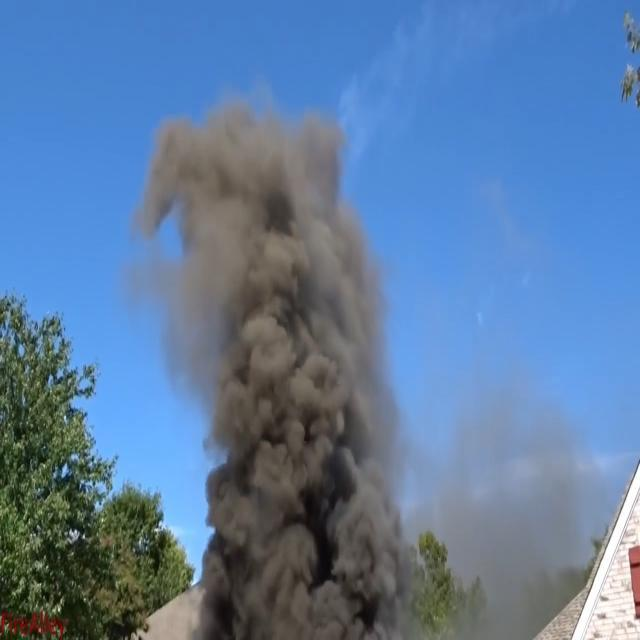Smoke: (150, 104, 412, 618)
